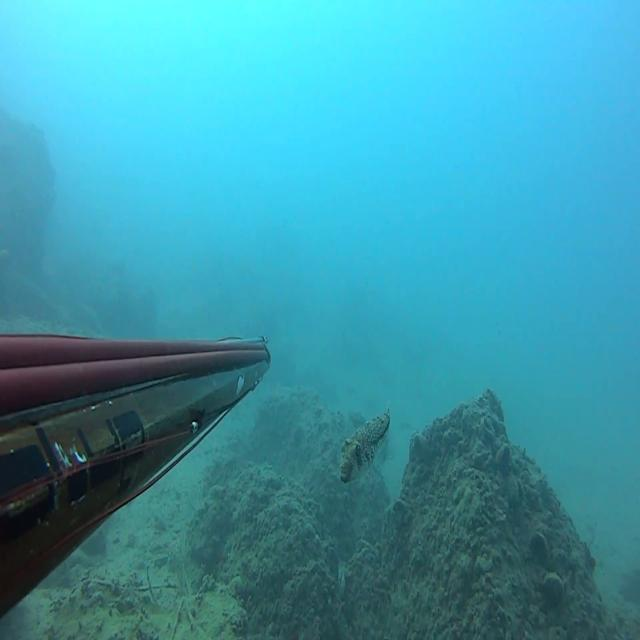Balon Baligi: (340, 405, 390, 483)
